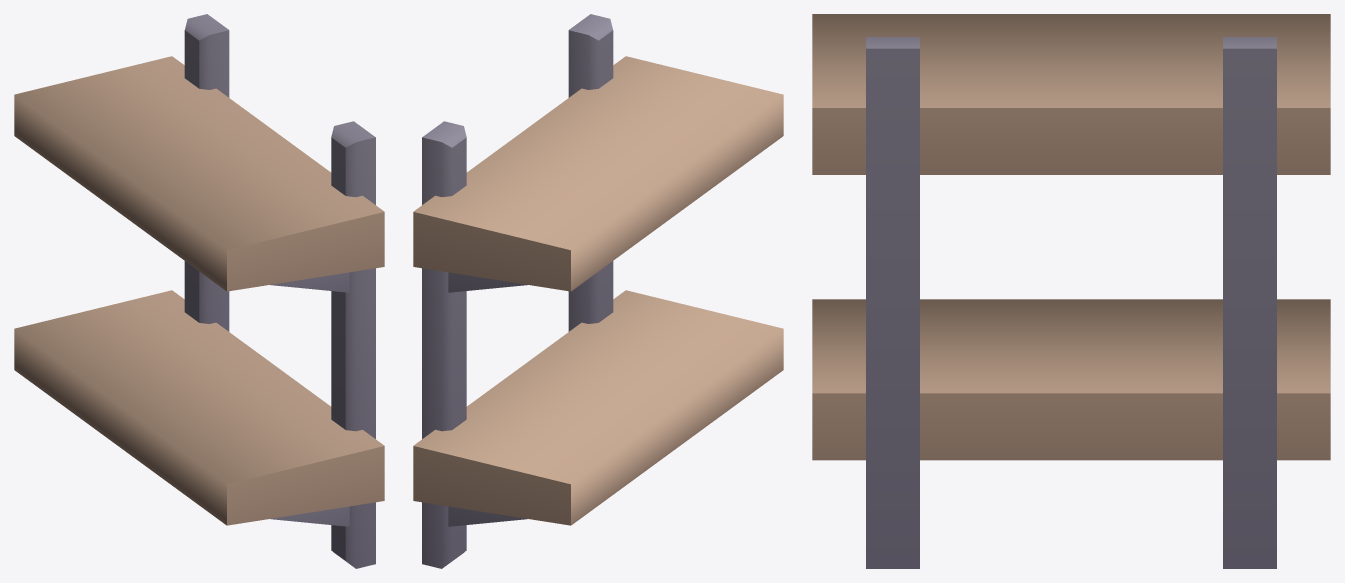
The model's file is shelf-rail-short (%wall).glb.
3 renders of one model, left to right at view 1: azimuth 30°, elevation 25°; view 2: azimuth 150°, elevation 25°; view 3: azimuth 270°, elevation 25°, orthographic. The views are drawn at different scales.
Visible parts, largest first — view 1: shelf-rail-short (%wall); view 2: shelf-rail-short (%wall); view 3: shelf-rail-short (%wall).
Part boxes in pixels (x1,y1,x2,y2): shelf-rail-short (%wall): (14, 14, 384, 568); shelf-rail-short (%wall): (413, 14, 783, 568); shelf-rail-short (%wall): (812, 14, 1330, 568).
Size of the model in its own units: 0.325 by 0.775 by 0.7.
